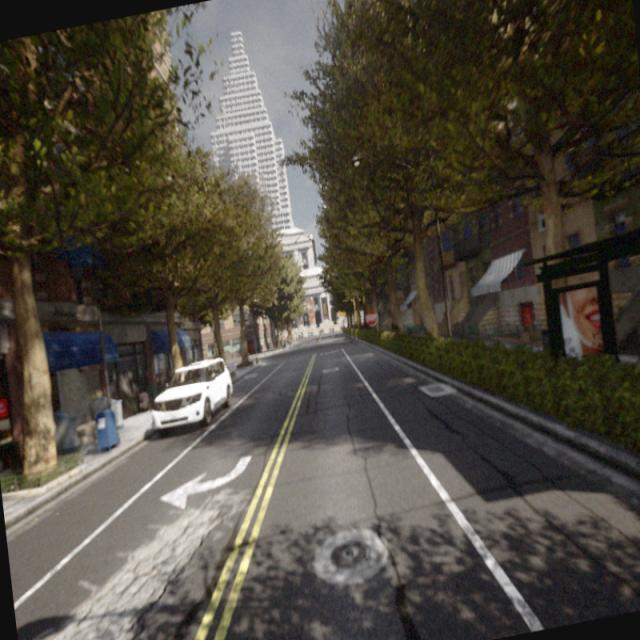stop sign: (362, 305, 380, 330)
